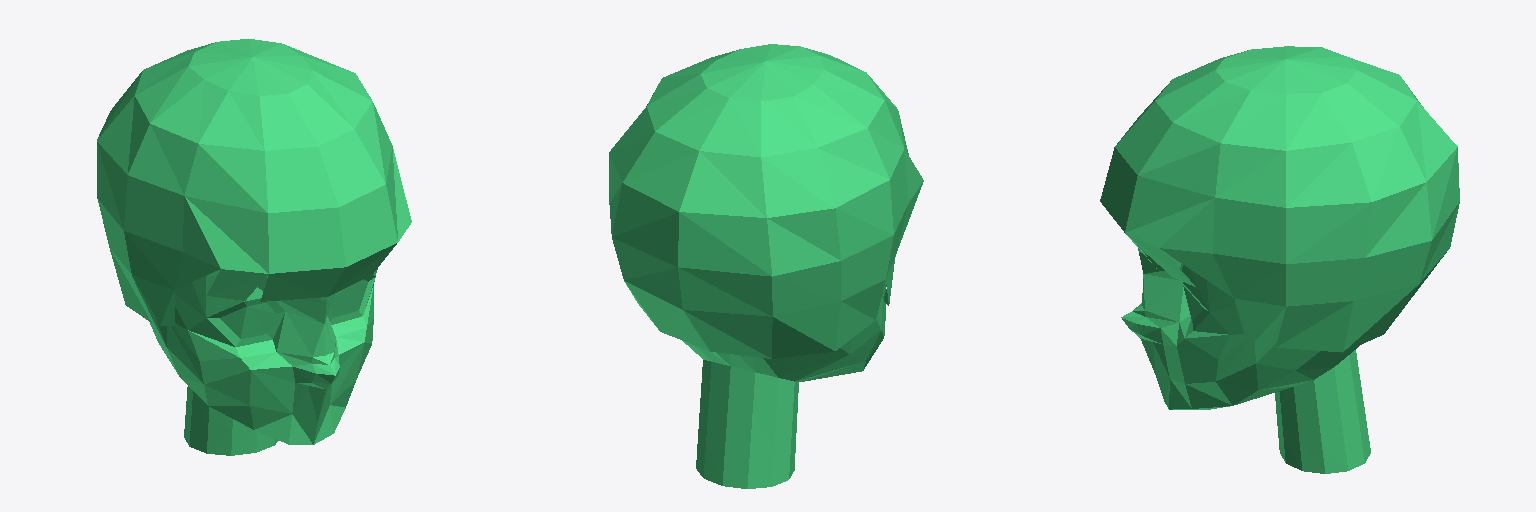
File: NM_zombie_head.obj
3 views of the same model, side by side, from view 1: azimuth 30°, elevation 25°; view 2: azimuth 150°, elevation 25°; view 3: azimuth 270°, elevation 25° (orthographic).
Visible parts, largest first — view 1: Cylinder001; view 2: Cylinder001; view 3: Cylinder001.
Boxes of the visible parts, <box> form: Cylinder001: <box>97,39,411,455</box>; Cylinder001: <box>609,44,923,488</box>; Cylinder001: <box>1100,46,1459,473</box>.
Bounding box in the file's own units: 9.69 × 14.12 × 11.71.